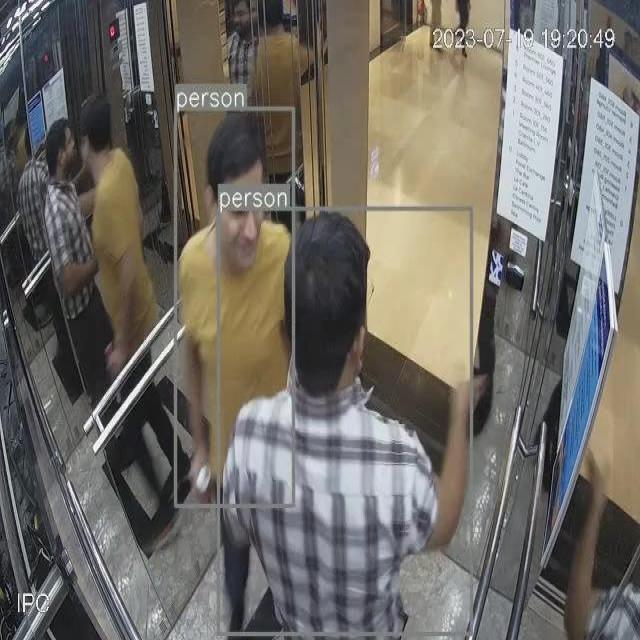person: (221, 209, 469, 636), (75, 95, 192, 532), (178, 112, 295, 505), (37, 118, 103, 402)
